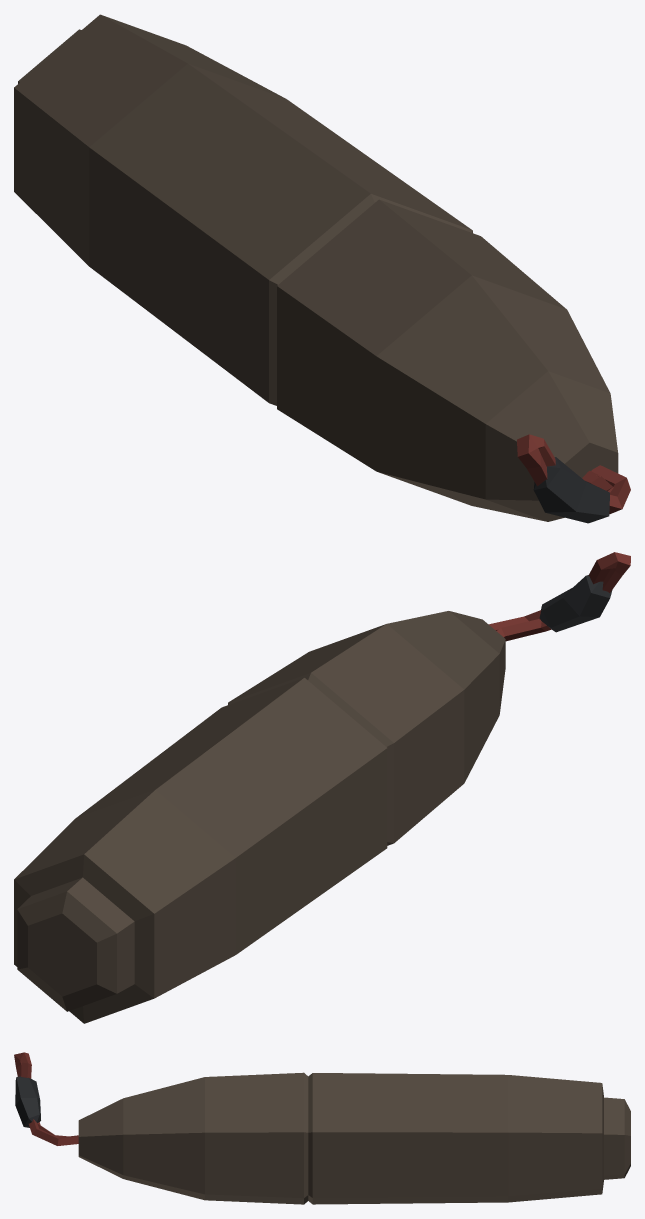
Rendered from SM_Prop_IED_01.fbx.
3 views of the same model, one above another, from view 1: azimuth 30°, elevation 25°; view 2: azimuth 150°, elevation 25°; view 3: azimuth 270°, elevation 25° (orthographic). The views are drawn at different scales.
Parts seen in each view (by area): view 1: SM_Prop_IED_01; view 2: SM_Prop_IED_01; view 3: SM_Prop_IED_01.
Part boxes in pixels (x1=…): SM_Prop_IED_01: x1=14, y1=14, x2=630, y2=523; SM_Prop_IED_01: x1=14, y1=552, x2=630, y2=1023; SM_Prop_IED_01: x1=14, y1=1052, x2=630, y2=1204.
Bounding box in the file's own units: 16.23 × 16.7 × 70.82.
